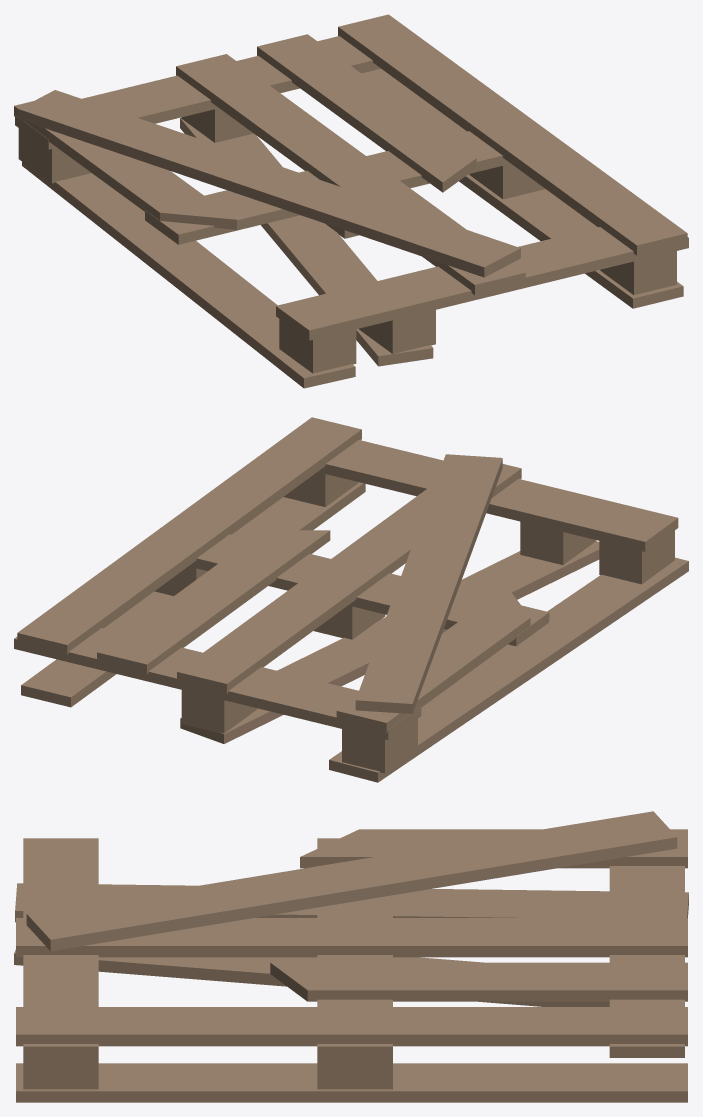
File: env_pallet_02.glb
3 renders of one model, top to bottom at view 1: azimuth 30°, elevation 25°; view 2: azimuth 150°, elevation 25°; view 3: azimuth 270°, elevation 25°, orthographic. The views are drawn at different scales.
Parts seen in each view (by area): view 1: _tmp_env_env_pallet_02.obj; view 2: _tmp_env_env_pallet_02.obj; view 3: _tmp_env_env_pallet_02.obj.
Part boxes in pixels (x1,y1,x2,y2): _tmp_env_env_pallet_02.obj: (14,14,688,388); _tmp_env_env_pallet_02.obj: (14,417,688,782); _tmp_env_env_pallet_02.obj: (14,811,688,1102).
Bounding box in the file's own units: 0.9173 × 0.1639 × 1.22.
